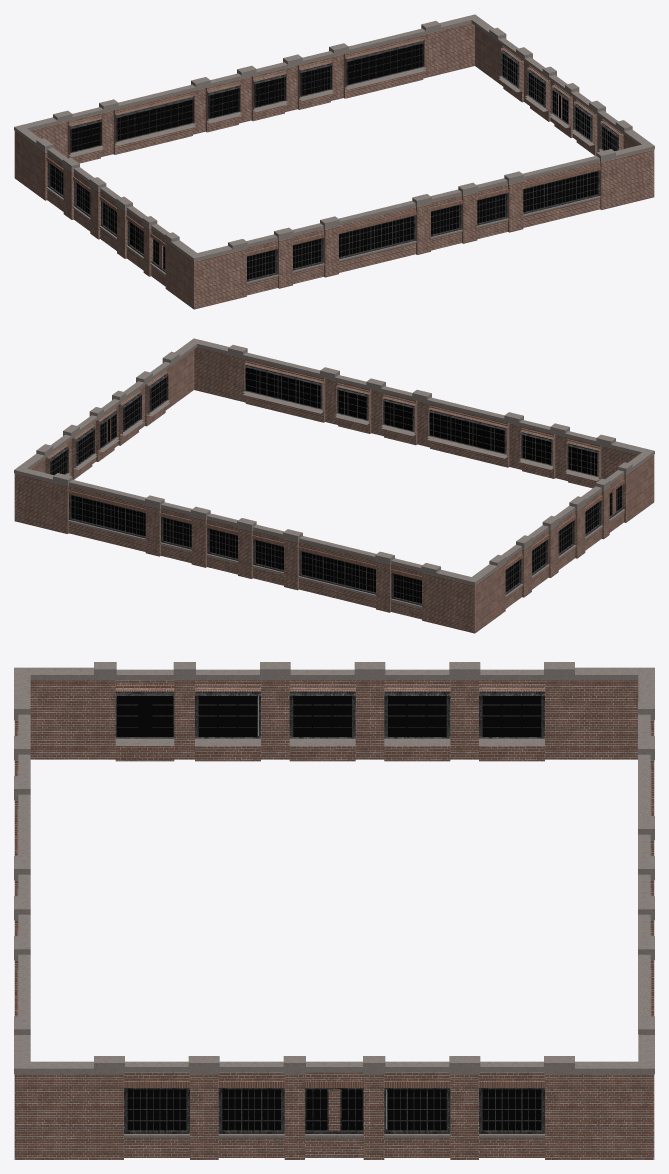
Rendered from BuildingA_Top_Shell_VarB.fbx.
The picture shows the model from 3 angles, top to bottom: view 1: azimuth 30°, elevation 25°; view 2: azimuth 150°, elevation 25°; view 3: azimuth 270°, elevation 25°; orthographic projection. The views are drawn at different scales.
Parts seen in each view (by area): view 1: BuildingA_Top_Shell_VarB; view 2: BuildingA_Top_Shell_VarB; view 3: BuildingA_Top_Shell_VarB.
Part boxes in pixels (<box>): BuildingA_Top_Shell_VarB: <box>14,14,654,309</box>; BuildingA_Top_Shell_VarB: <box>14,338,654,633</box>; BuildingA_Top_Shell_VarB: <box>14,662,654,1159</box>.
Size of the model in its own units: 4007 by 452 by 2707.
